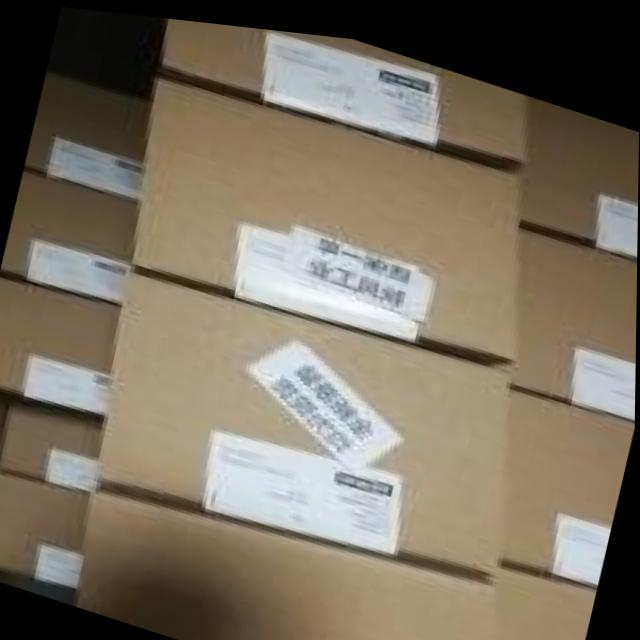box: (100, 266, 510, 564), (128, 75, 524, 357), (78, 482, 493, 640), (166, 15, 527, 161), (502, 375, 636, 573), (512, 209, 638, 408), (0, 272, 127, 421), (521, 86, 639, 240), (4, 166, 135, 301), (28, 65, 151, 195), (0, 470, 98, 599), (0, 395, 104, 489), (495, 546, 598, 640)
